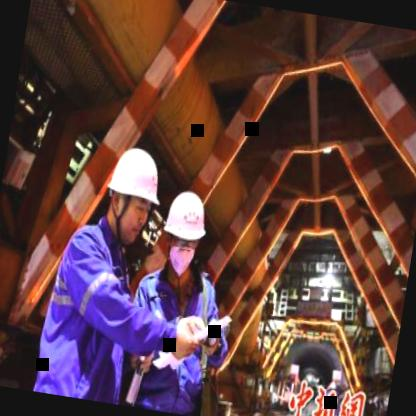helmet: (97, 141, 168, 252), (154, 184, 212, 276)
